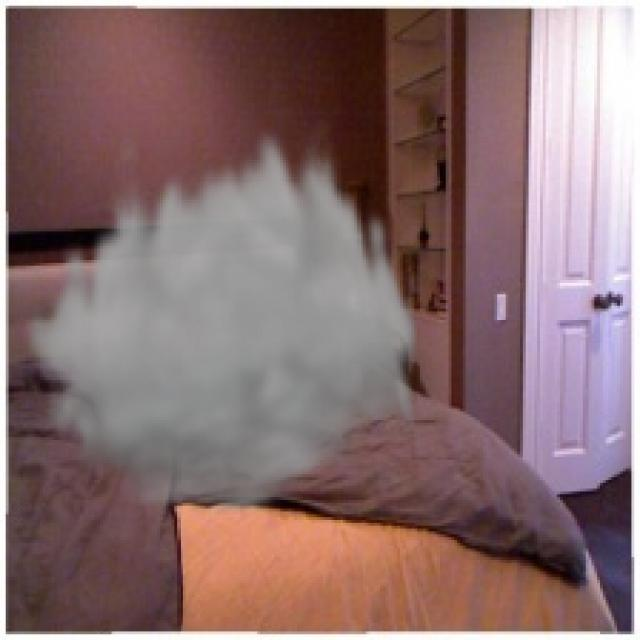smoke: (20, 117, 423, 523)
